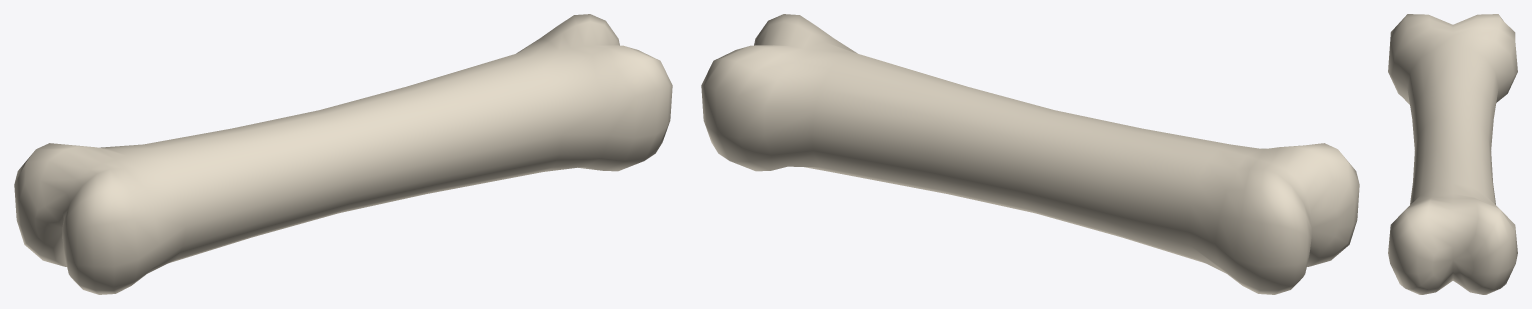
Rendered from Single_Bone.fbx.
3 views of the same model, side by side, from view 1: azimuth 30°, elevation 25°; view 2: azimuth 150°, elevation 25°; view 3: azimuth 270°, elevation 25° (orthographic). The views are drawn at different scales.
Visible parts, largest first — view 1: Single_Bone; view 2: Single_Bone; view 3: Single_Bone.
Boxes of the visible parts, left/top/right/bottom form: Single_Bone: left=14, top=14, right=672, bottom=294; Single_Bone: left=701, top=14, right=1359, bottom=294; Single_Bone: left=1388, top=14, right=1517, bottom=294.
Bounding box in the file's own units: 1.22 × 0.304 × 0.2289.
